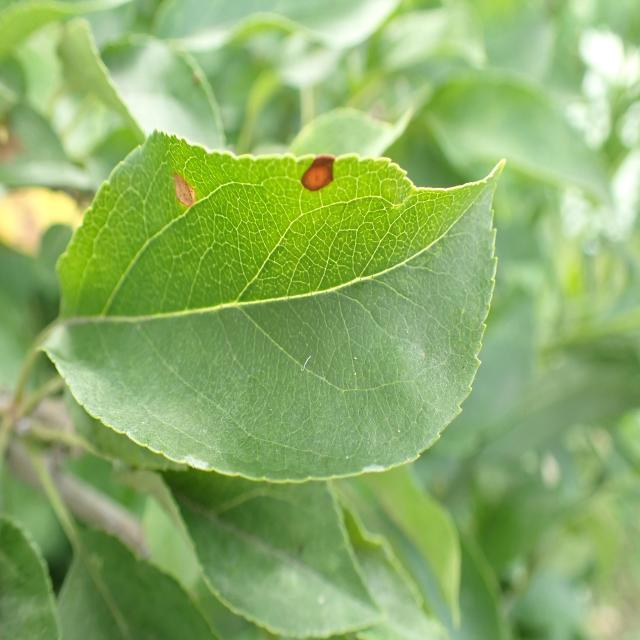Black Rot: (277, 134, 345, 204), (155, 150, 207, 223)
